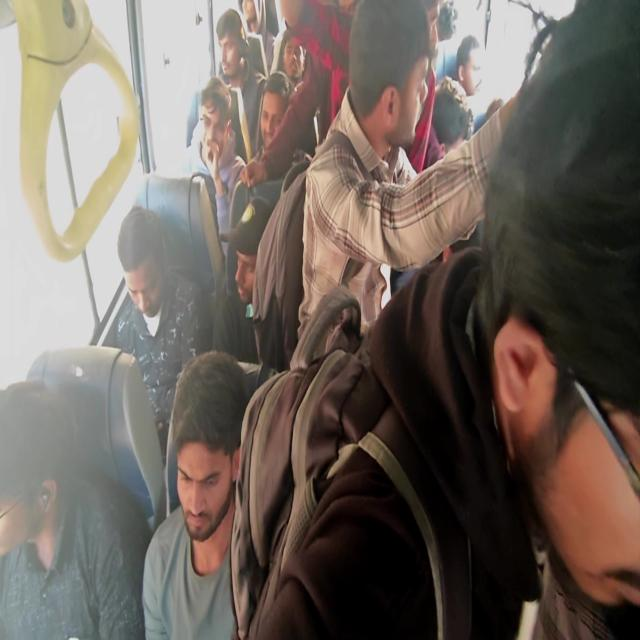person: (231, 0, 639, 638), (230, 245, 542, 638), (474, 0, 639, 638), (292, 0, 522, 364), (0, 378, 152, 638), (141, 348, 251, 638), (102, 204, 212, 461), (242, 0, 356, 188), (186, 76, 246, 247), (212, 196, 273, 364), (431, 76, 482, 256), (215, 8, 265, 161), (241, 70, 298, 189), (455, 34, 503, 136), (431, 75, 473, 156), (238, 0, 277, 75)
